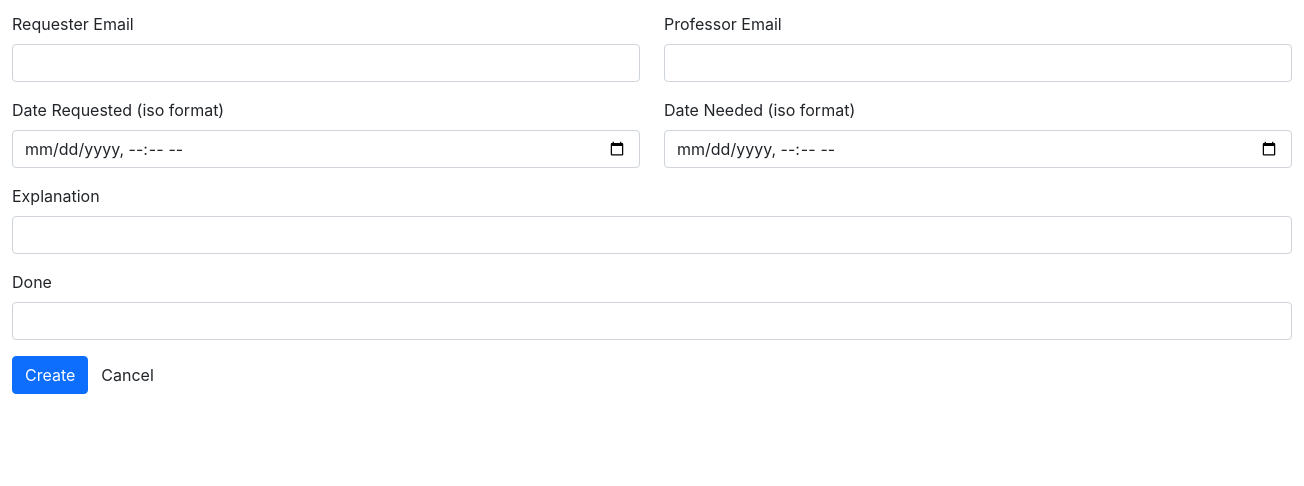
it: RecommendationRequestForm tests › Correct Error messsages on missing input
The width and height of the screenshot is (1304, 486).
Click the button with test id "RecommendationRequestForm-submit" at (50, 375), box [12, 356, 88, 394]
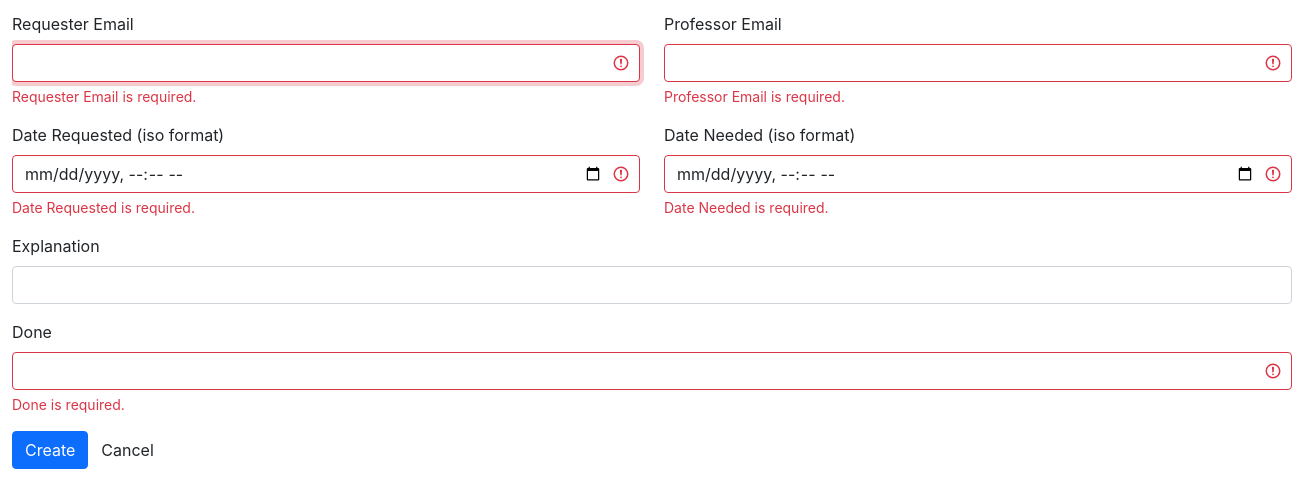
Expected: the text "Requester Email is required." is shown, [12, 88, 196, 105]
Expected: the text "Professor Email is required." is shown, [664, 88, 845, 105]
Expected: the text "Date Requested is required." is shown, [12, 199, 195, 216]
